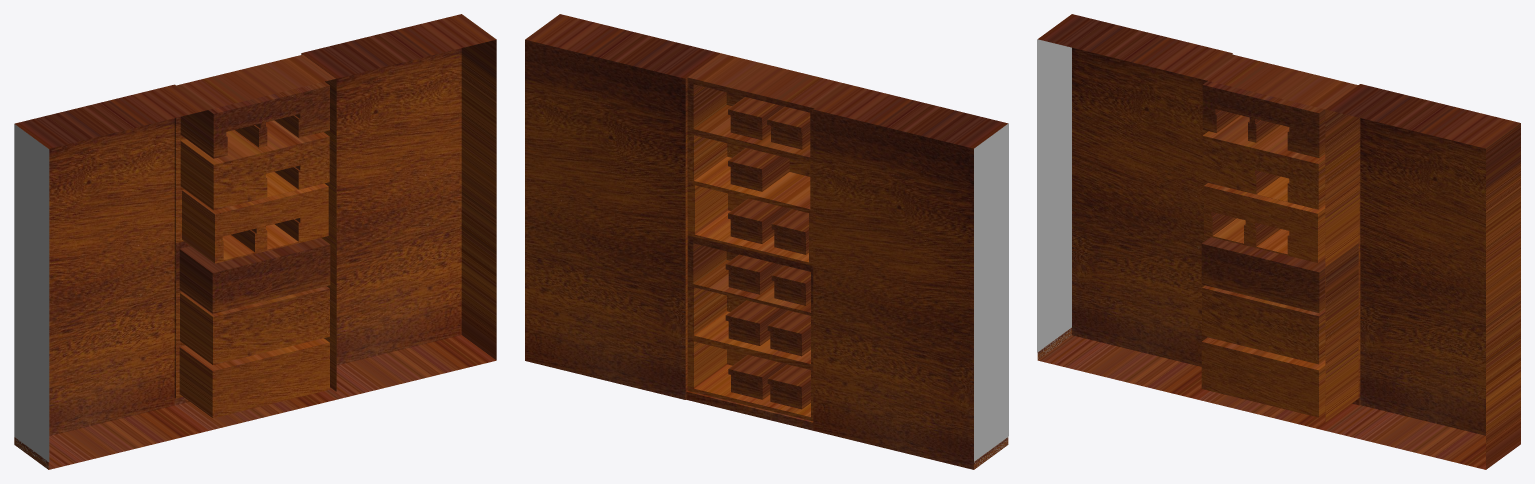
3 views of the same model, side by side, from view 1: azimuth 30°, elevation 25°; view 2: azimuth 150°, elevation 25°; view 3: azimuth 330°, elevation 25° (orthographic).
Visible parts, largest first — view 1: mesh1_mesh1-geometry; view 2: mesh1_mesh1-geometry, mesh4_mesh4-geometry, mesh7_mesh7-geometry, mesh5_mesh5-geometry, mesh3_mesh3-geometry, mesh6_mesh6-geometry, mesh2_mesh2-geometry; view 3: mesh1_mesh1-geometry.
Part boxes in pixels (<box>): mesh1_mesh1-geometry: <box>14,14,496,469</box>; mesh1_mesh1-geometry: <box>525,14,1008,469</box>; mesh4_mesh4-geometry: <box>725,300,787,345</box>; mesh7_mesh7-geometry: <box>728,354,786,399</box>; mesh5_mesh5-geometry: <box>767,310,810,356</box>; mesh3_mesh3-geometry: <box>725,254,784,294</box>; mesh6_mesh6-geometry: <box>767,364,810,409</box>; mesh2_mesh2-geometry: <box>771,265,810,305</box>; mesh1_mesh1-geometry: <box>1037,14,1520,469</box>.
Size of the model in its own units: 0.8199 by 0.5613 by 0.1125.
